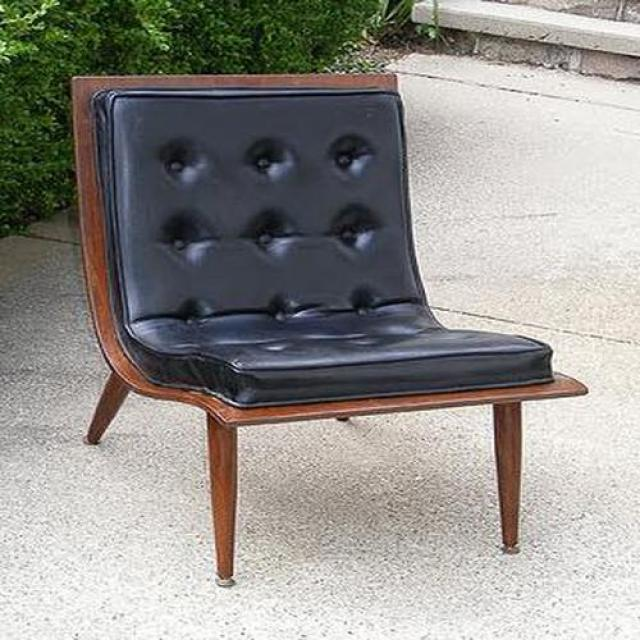chair: (74, 74, 582, 585)
